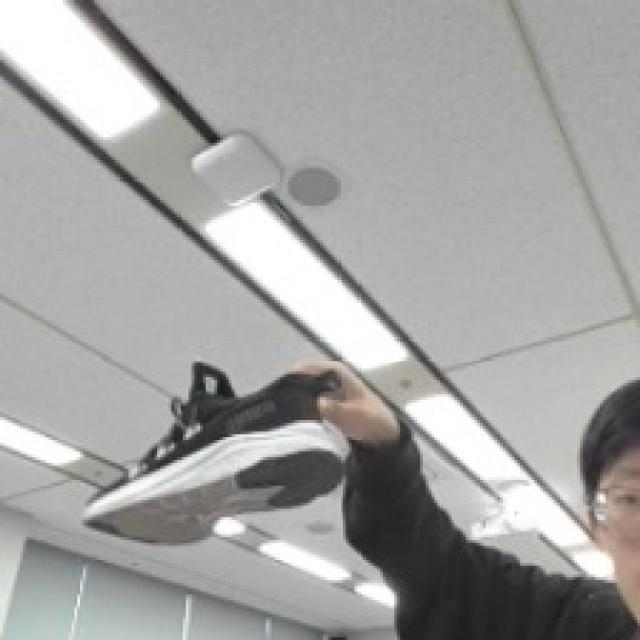shoe: (68, 317, 410, 569)
